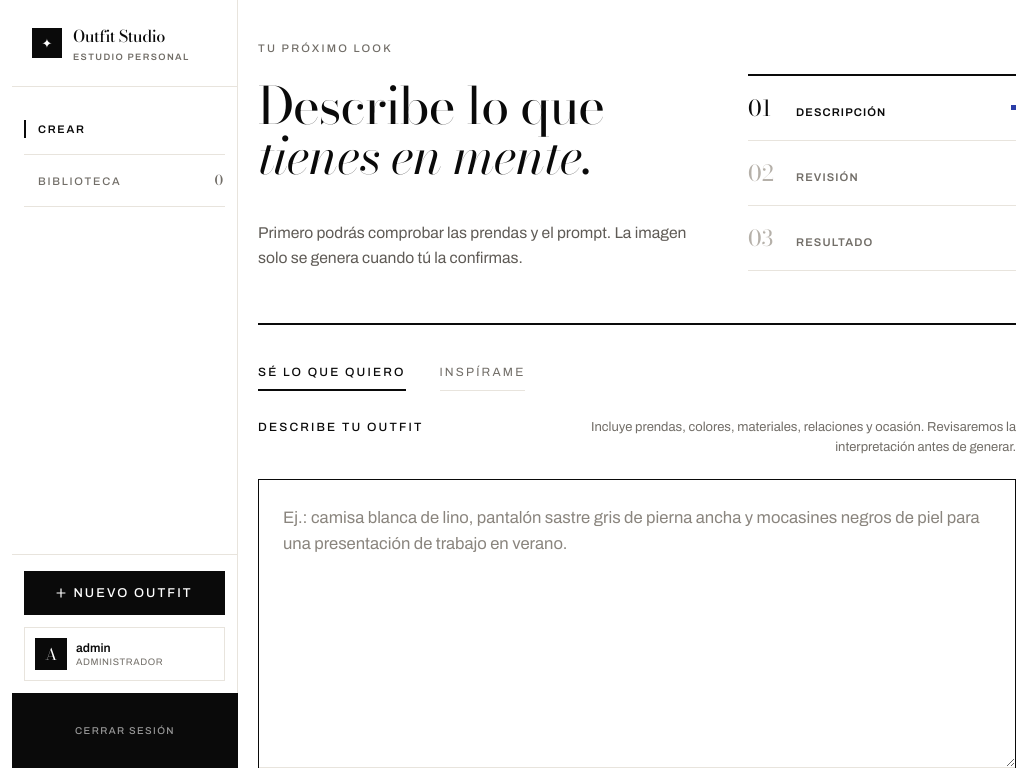
Scenario: flujo principal › ofrece buscar prendas en el propio resultado, sin ir a la biblioteca
Step 1. Replace the text in the text box labelled "Describe tu outfit" with "camisa blanca de lino metida dentro del pantalón negro" → (637, 623), box [259,480,1015,767]
(page scrolled)
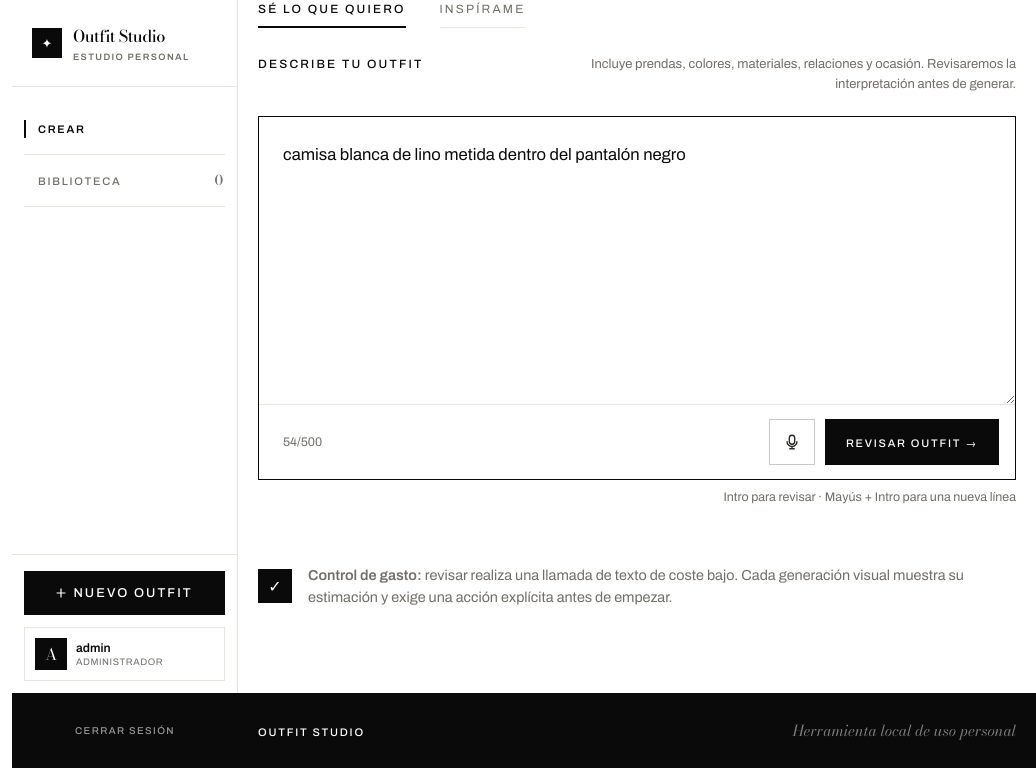
Step 2. Click the button "Revisar outfit →" → (912, 442), box [825,419,999,465]
(page scrolled)
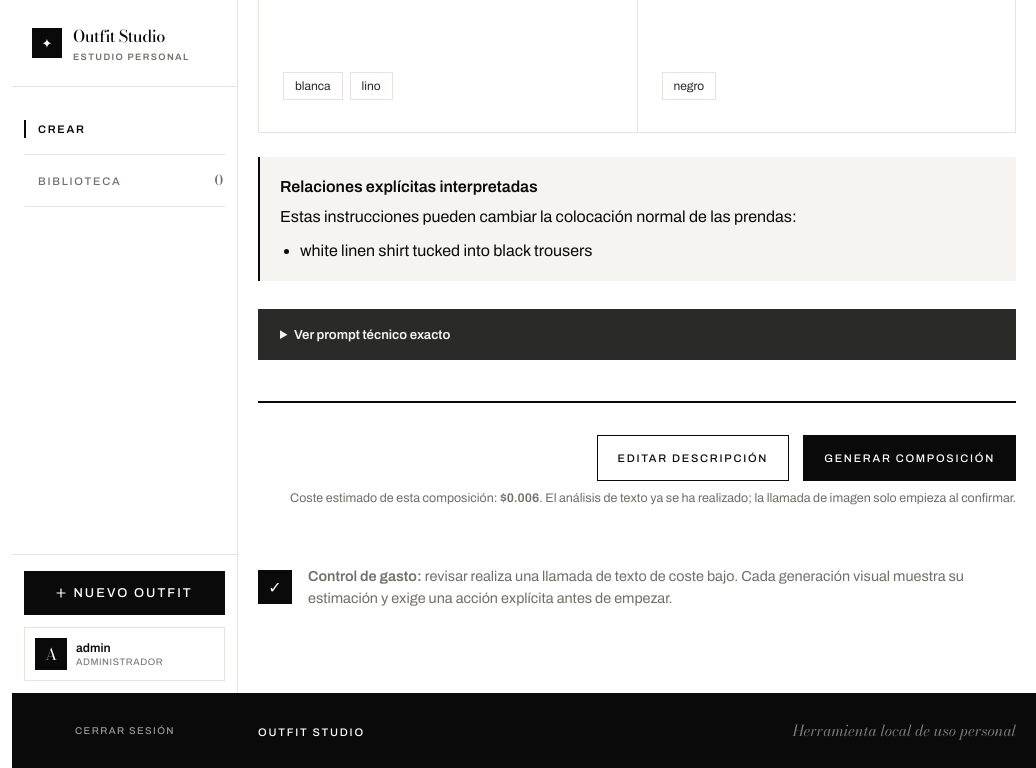
Step 3. Click the button "Generar composición" → (910, 458), box [803,435,1016,481]
(page scrolled)
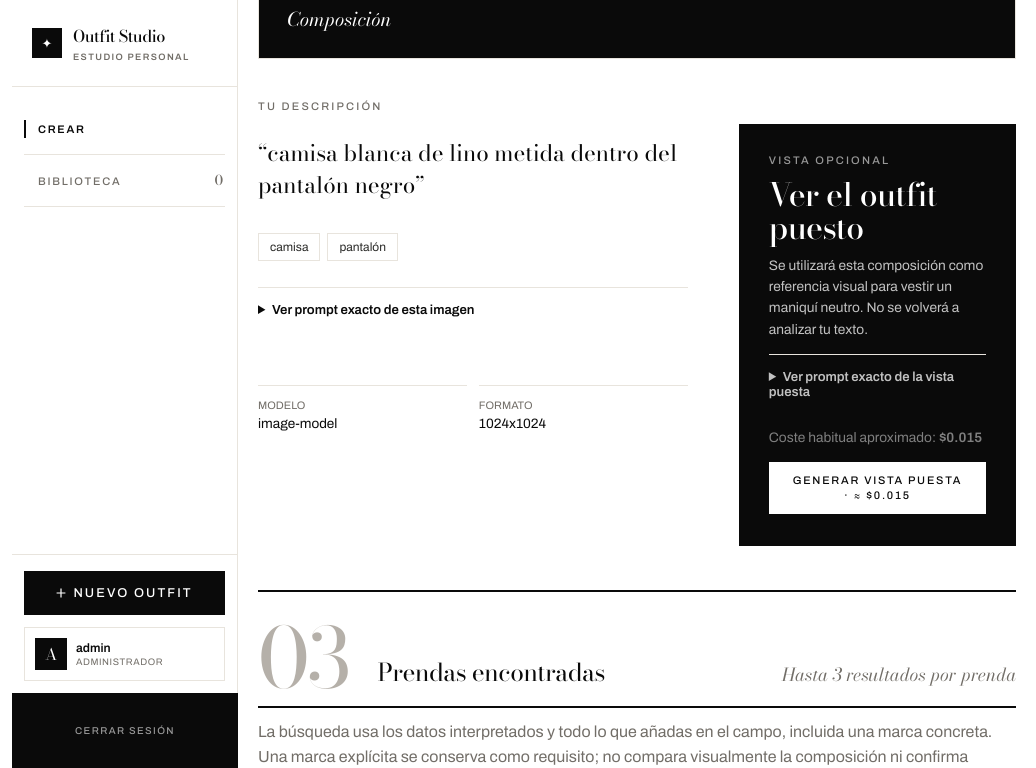
Now the heading "Prendas encontradas" is shown, box [378,660,605,685]
